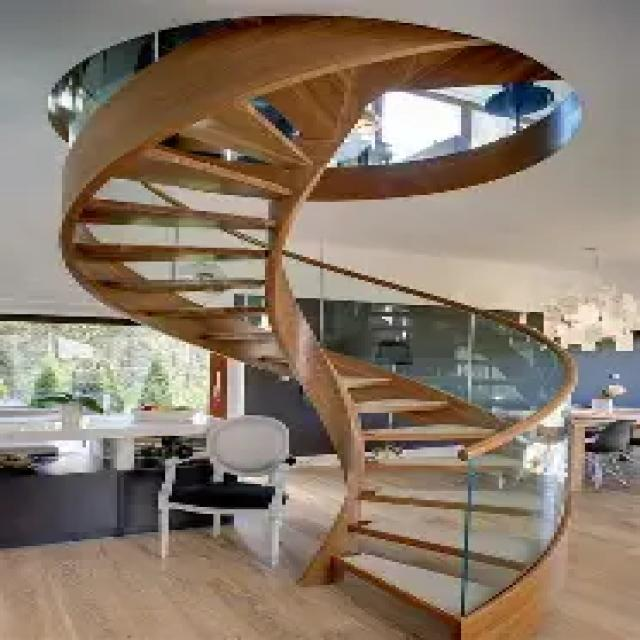Stairs: (256, 289, 602, 638)
